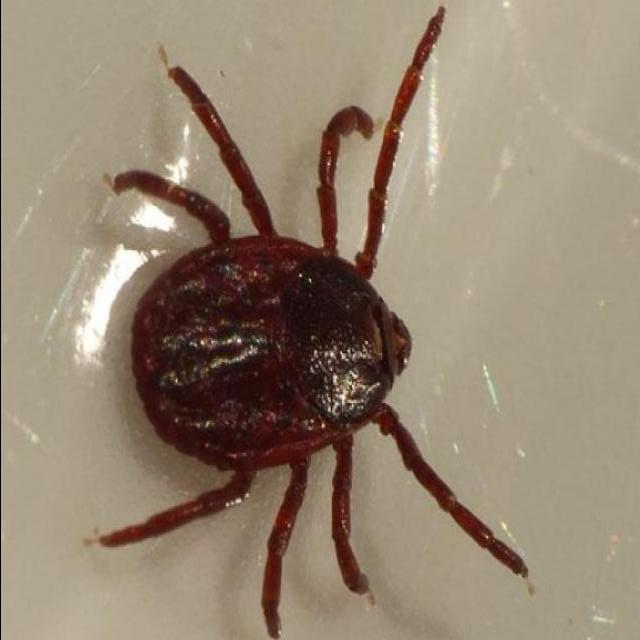Rhipicephalus Sanguineus-F: (90, 7, 526, 640)
